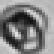correct: (0, 0, 51, 52)
